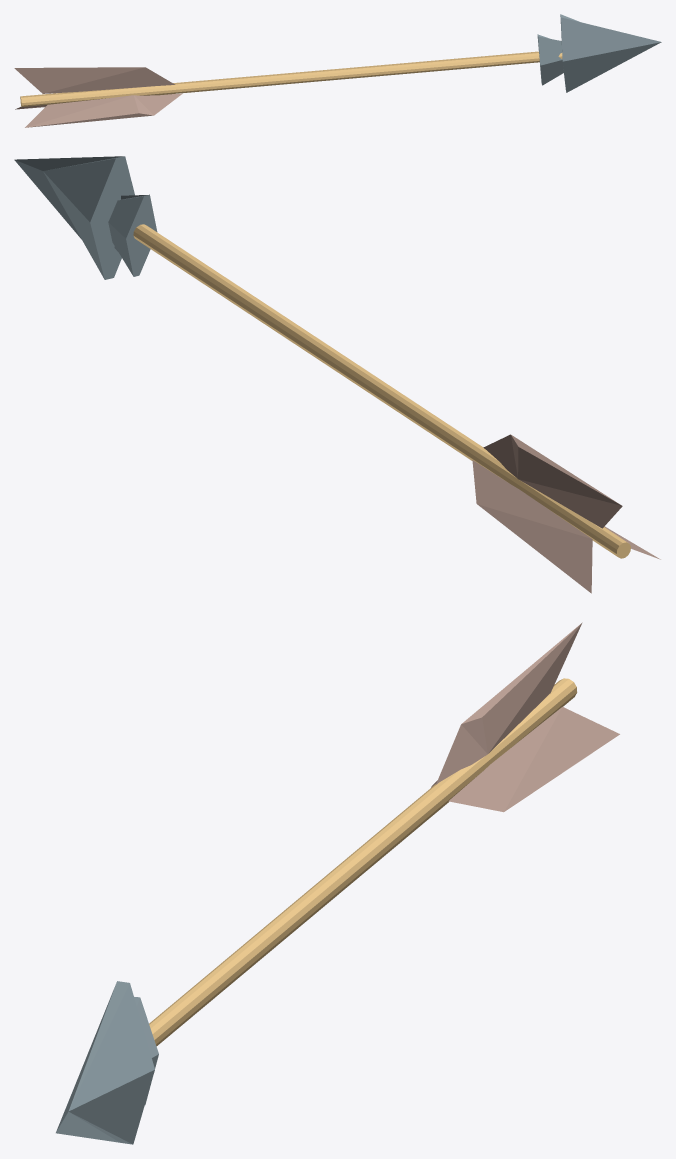
Rendered from arrow_01.glb.
3 renders of one model, top to bottom at view 1: azimuth 30°, elevation 25°; view 2: azimuth 150°, elevation 25°; view 3: azimuth 270°, elevation 25°, orthographic. The views are drawn at different scales.
Parts seen in each view (by area): view 1: group1782070870, group1053969853, group561470043, group1946537963, group517123668; view 2: group1782070870, group1053969853, group159609442, group561470043, group517123668; view 3: group1782070870, group1053969853, group159609442, group561470043.
Part boxes in pixels (<box>): group1782070870: <box>20,51,562,106</box>; group1053969853: <box>560,14,661,92</box>; group561470043: <box>14,67,175,93</box>; group1946537963: <box>25,93,182,127</box>; group517123668: <box>537,34,563,85</box>; group1782070870: <box>133,224,630,558</box>; group1053969853: <box>14,156,134,279</box>; group159609442: <box>472,460,592,593</box>; group561470043: <box>483,434,622,528</box>; group517123668: <box>108,194,157,276</box>; group1782070870: <box>149,678,577,1046</box>; group1053969853: <box>56,981,154,1144</box>; group159609442: <box>448,707,619,812</box>; group561470043: <box>436,622,582,784</box>.
Size of the model in its own units: 0.5266 by 0.0789 by 0.2461.
